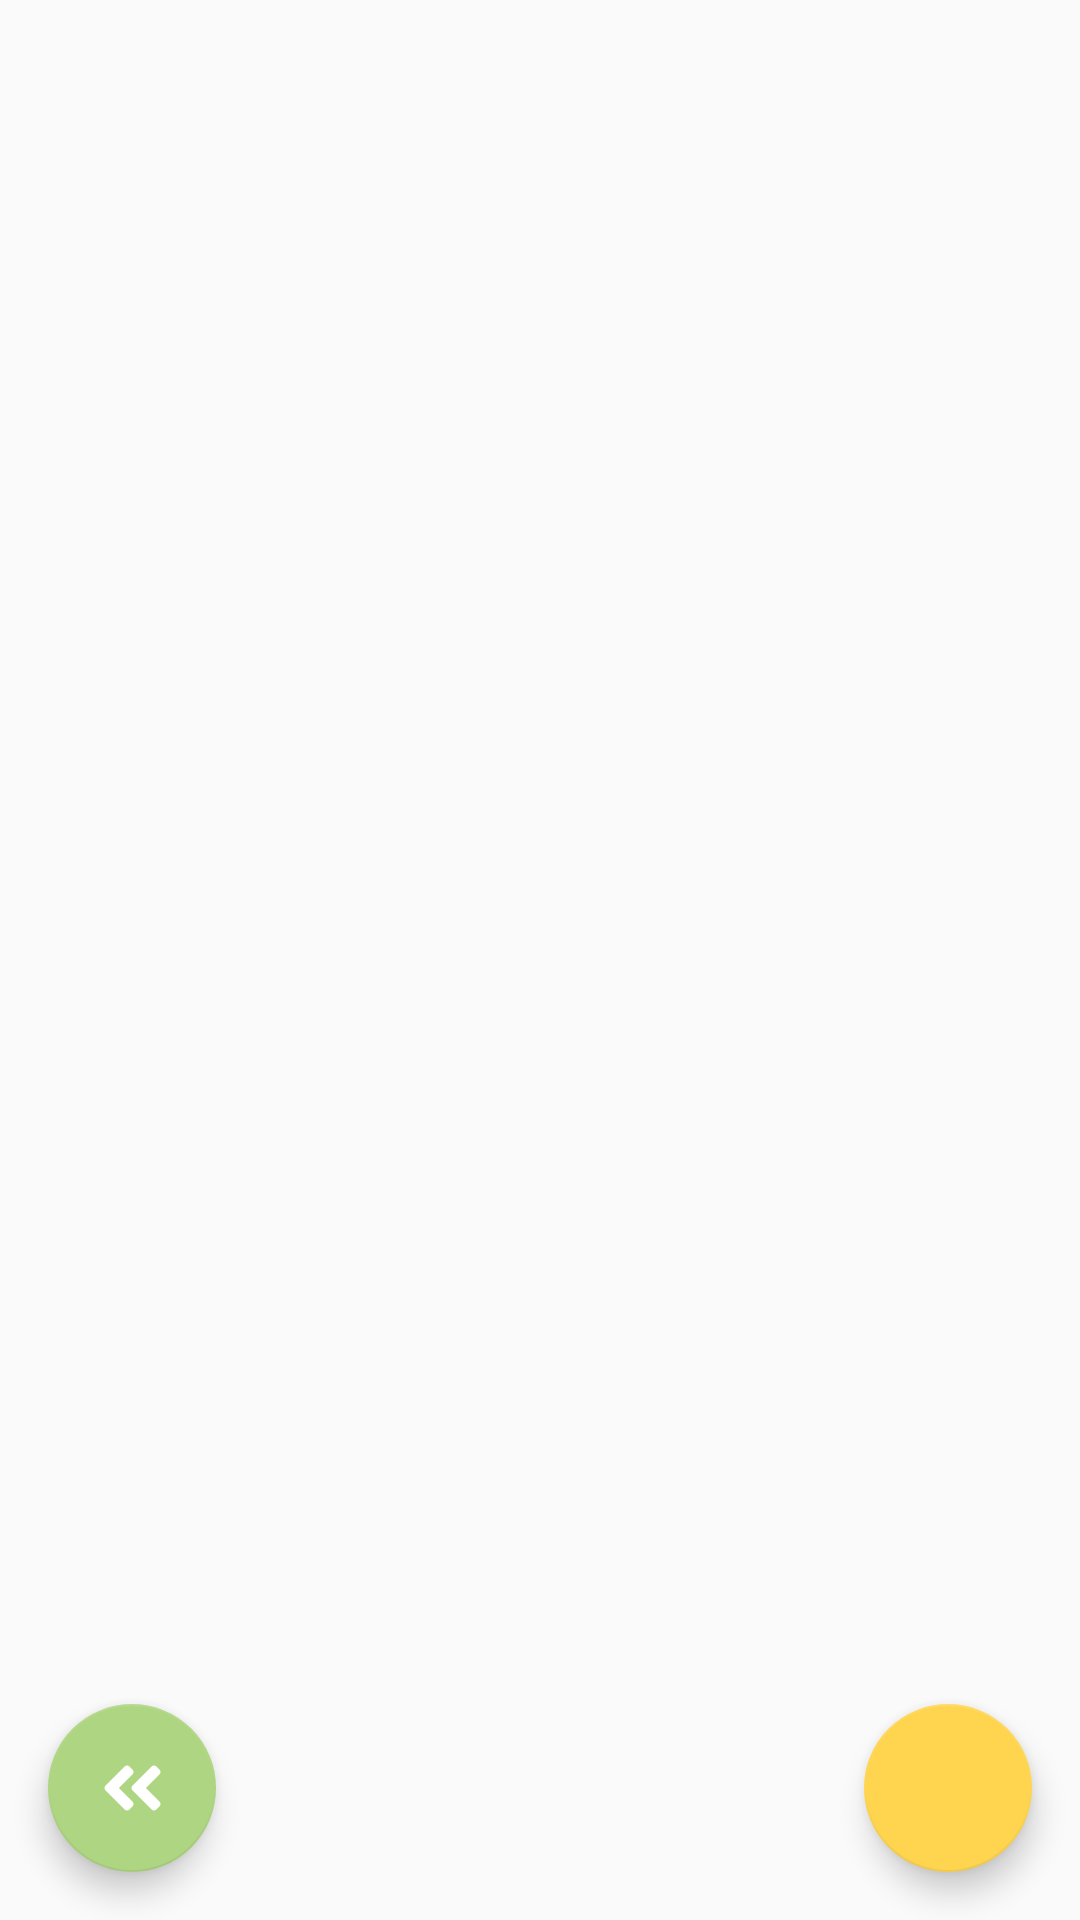

Icon click points for this 1080 × 1920 phone screenshot, format (x=x, y=y):
angle double left: (x=132, y=1788)
